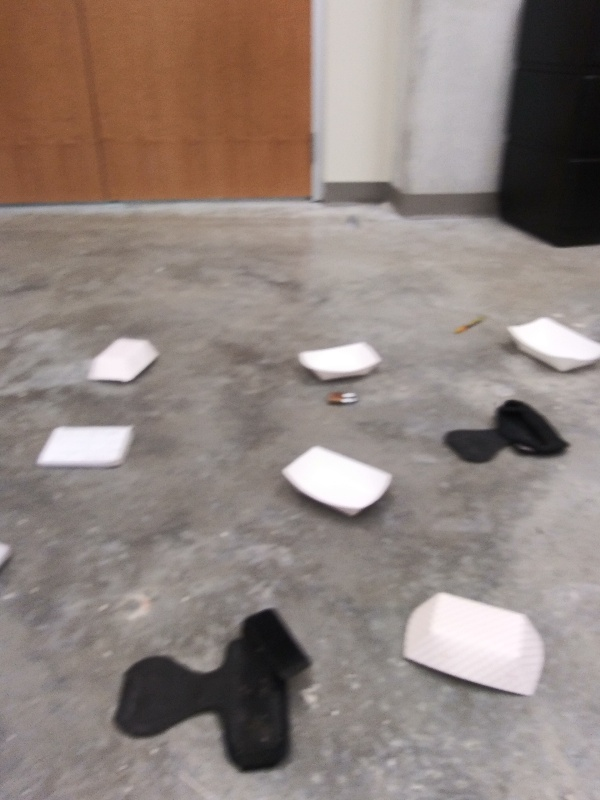plate: (400, 589, 548, 701), (279, 441, 398, 525), (499, 313, 600, 377), (81, 331, 163, 391), (290, 338, 386, 383)
